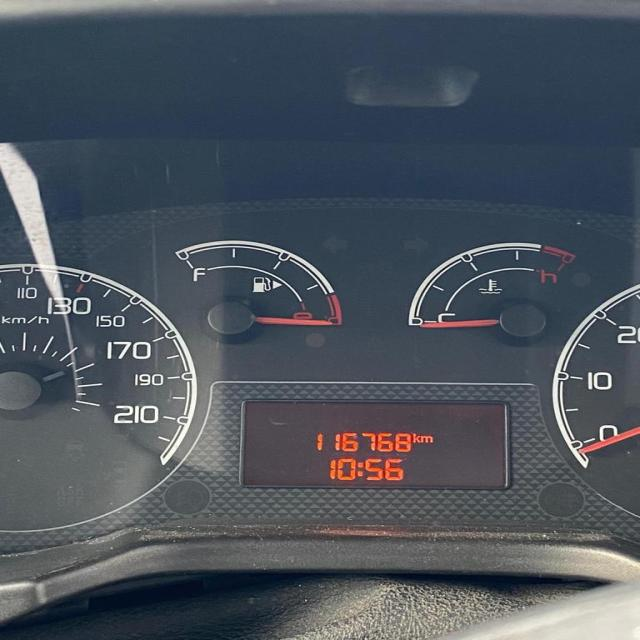odometer: (237, 394, 521, 492)
